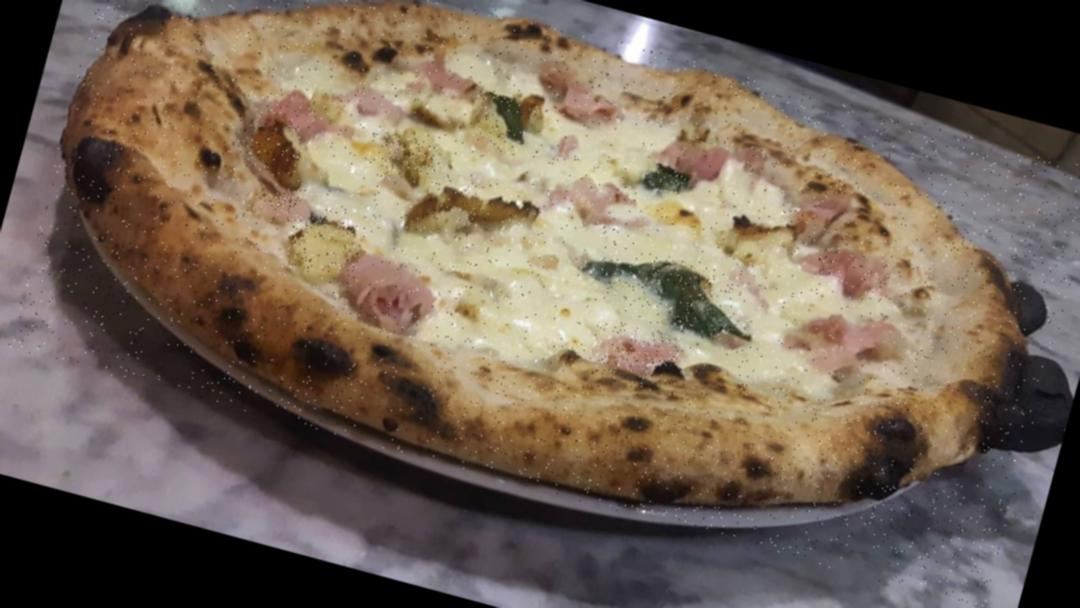Basil: (590, 240, 746, 339), (640, 162, 692, 198)
Ham: (590, 318, 697, 400), (338, 250, 438, 336), (793, 304, 898, 379), (544, 166, 651, 236), (534, 59, 625, 134), (804, 244, 893, 310), (235, 104, 312, 178), (407, 54, 494, 112), (260, 76, 335, 140), (654, 133, 732, 194), (340, 80, 408, 132), (258, 184, 306, 218)
Peppers: (416, 173, 548, 258), (274, 208, 367, 285), (363, 127, 444, 184), (473, 92, 541, 154), (632, 154, 695, 206)
Pizza: (5, 0, 1080, 608)
